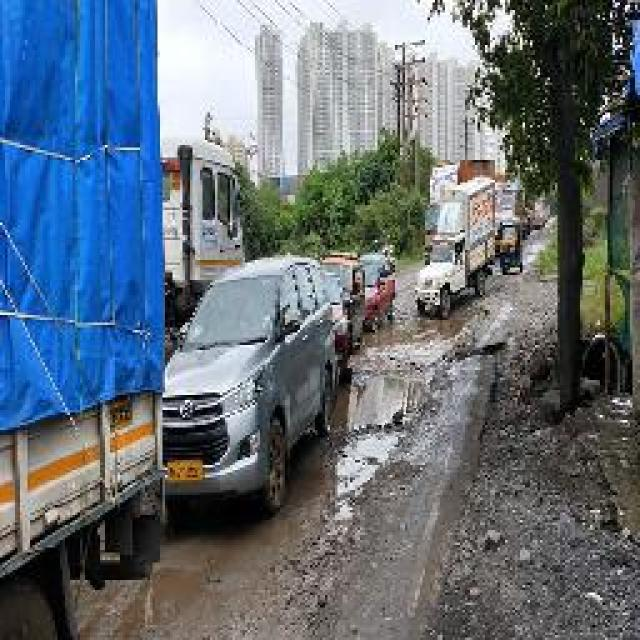puddle: (330, 371, 425, 462)
